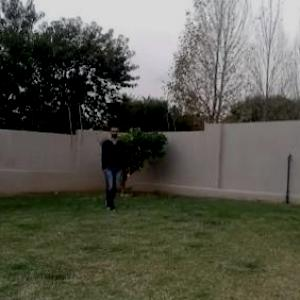follow: (101, 124, 122, 210)
